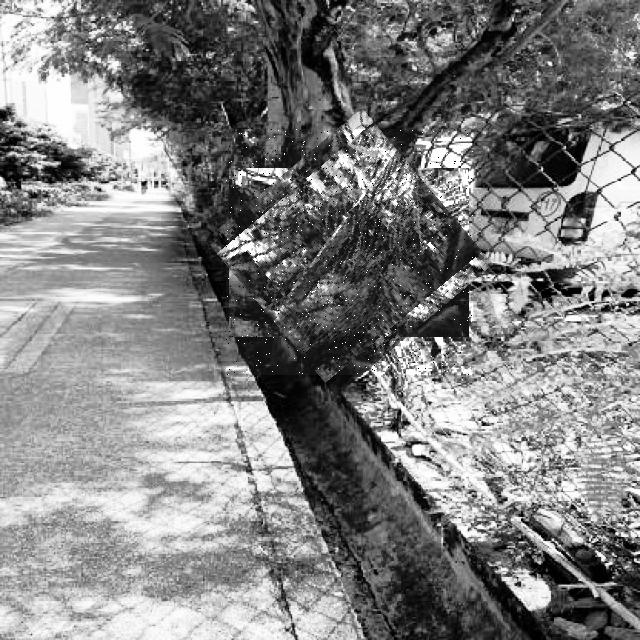anomaly-fence: (226, 129, 473, 375)
